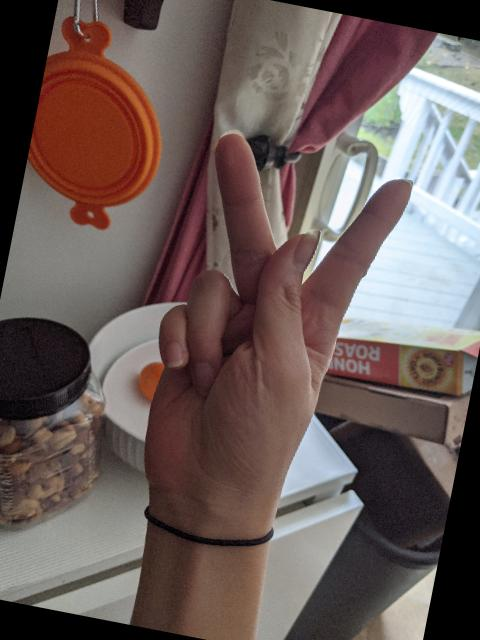K: (119, 117, 423, 541)
